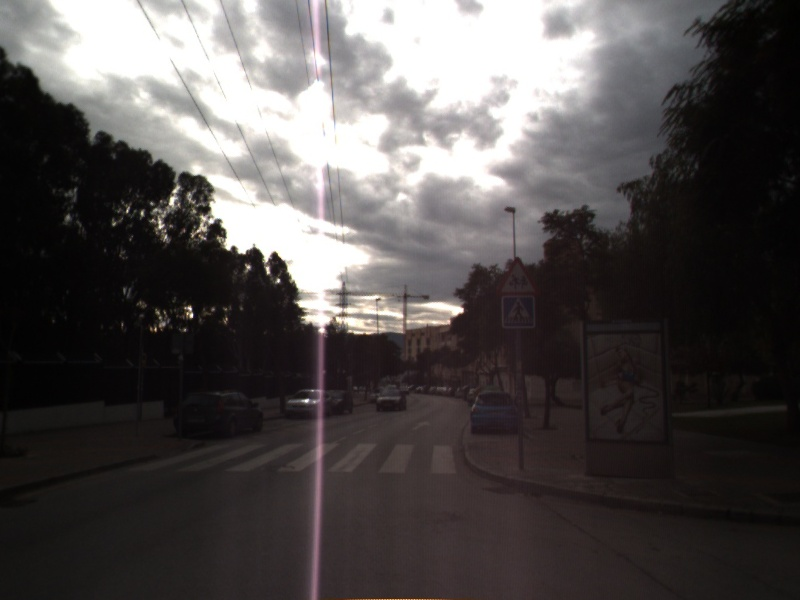STRAIGHT: (409, 418, 434, 433)
